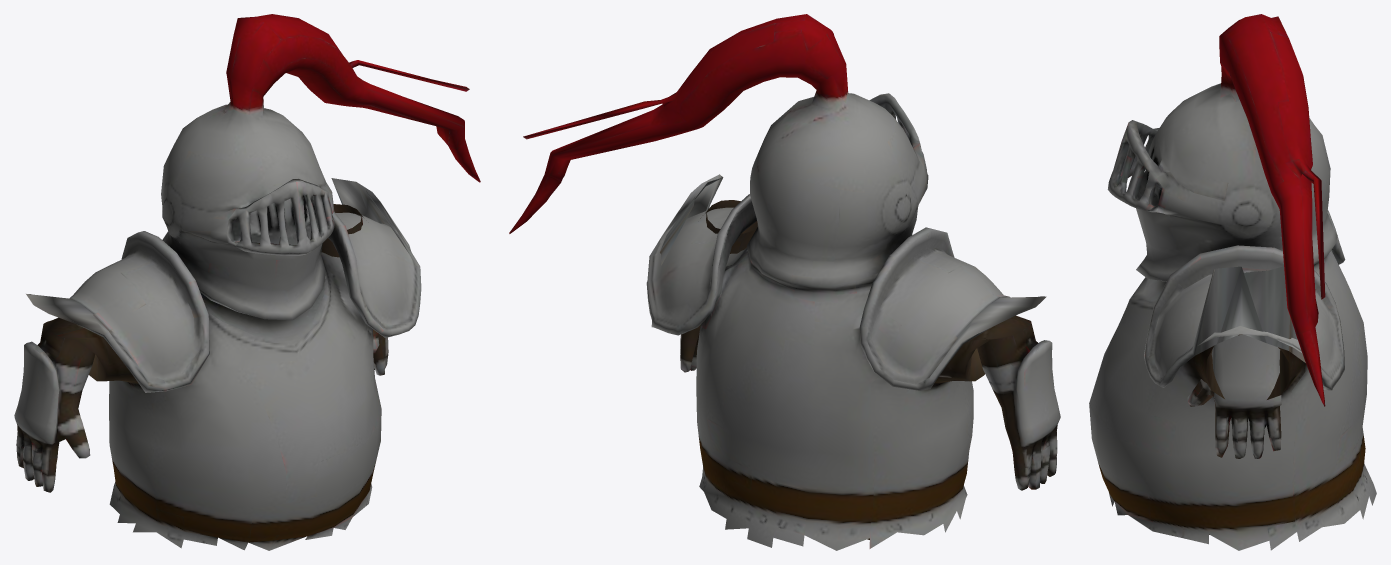
The model's file is knight-body.glb.
3 renders of one model, left to right at view 1: azimuth 30°, elevation 25°; view 2: azimuth 150°, elevation 25°; view 3: azimuth 270°, elevation 25°, orthographic. The views are drawn at different scales.
Visible parts, largest first — view 1: knight-body; view 2: knight-body; view 3: knight-body.
Part boxes in pixels (x1,y1,x2,y2): knight-body: (14,14,480,550); knight-body: (509,14,1060,550); knight-body: (1089,14,1376,550).
Bounding box in the file's own units: 0.7561 × 0.6896 × 0.3658.
Materials: 1 (1 with a texture image).
